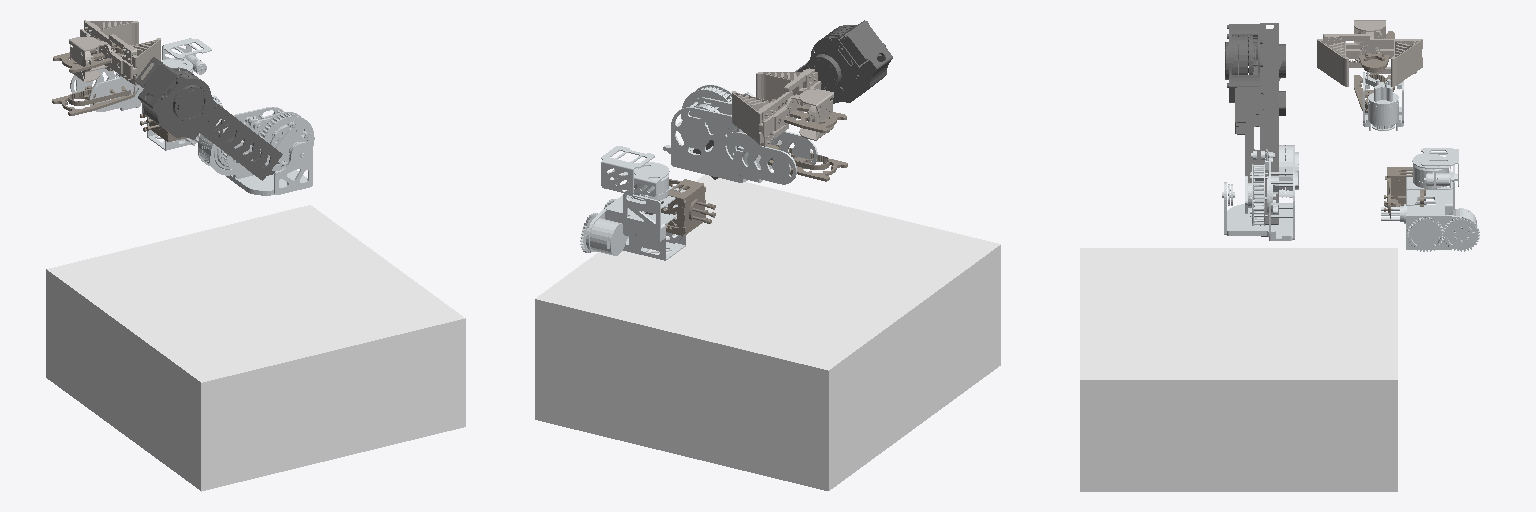
robot.urdf — robot:
<?xml version="1.0"?>
<robot name="robot">
  <link name="base">
    <inertial>
      <origin xyz="0.03057411 0.00833031 0.1359428" rpy="0 0 0"/>
      <mass value="2.97836886"/>
      <inertia ixx="0.0173222" ixy="0.00021754" ixz="0.00427526" iyy="0.02293598" iyz="0.00056289" izz="0.00881735"/>
    </inertial>
    <visual>
      <origin xyz="0 0 0" rpy="0 0 0"/>
      <geometry><mesh filename="meshes/base_collision.stl"/></geometry>
      <material name="base_color"><color rgba="1 1 1 1"/></material>
    </visual>
    <collision>
      <origin xyz="0 0 0" rpy="0 0 0"/>
      <geometry><mesh filename="meshes/base_collision.stl"/></geometry>
    </collision>
  </link>
  <link name="link1">
    <inertial>
      <origin xyz="0.00204172 0.04602681 -0.00160657" rpy="0 0 0"/>
      <mass value="0.76071759"/>
      <inertia ixx="0.00119291" ixy="0.0000256" ixz="-0.00006291" iyy="0.00094135" iyz="0.00000147" izz="0.00081243"/>
    </inertial>
    <visual>
      <origin xyz="0 0 0" rpy="0 0 0"/>
      <geometry><mesh filename="meshes/link1_collision.stl"/></geometry>
      <material name="link1_color"><color rgba="0.89803922 0.91764706 0.92941176 1"/></material>
    </visual>
    <collision>
      <origin xyz="0 0 0" rpy="0 0 0"/>
      <geometry><mesh filename="meshes/link1_collision.stl"/></geometry>
    </collision>
  </link>
  <link name="link2">
    <inertial>
      <origin xyz="-0.03774787 0.08652143 -0.01708302" rpy="0 0 0"/>
      <mass value="0.90154258"/>
      <inertia ixx="0.00213021" ixy="0.00134154" ixz="0.00019995" iyy="0.00208061" iyz="-0.00019807" izz="0.00342371"/>
    </inertial>
    <visual>
      <origin xyz="0 0 0" rpy="0 0 0"/>
      <geometry><mesh filename="meshes/link2_collision.stl"/></geometry>
      <material name="link2_color"><color rgba="0.49803922 0.49803922 0.49803922 1"/></material>
    </visual>
    <collision>
      <origin xyz="0 0 0" rpy="0 0 0"/>
      <geometry><mesh filename="meshes/link2_collision.stl"/></geometry>
    </collision>
  </link>
  <link name="link3">
    <inertial>
      <origin xyz="-0.07062083 0.10852739 -0.01609221" rpy="0 0 0"/>
      <mass value="1.35727377"/>
      <inertia ixx="0.00417074" ixy="-0.00023246" ixz="0.00057282" iyy="0.00354877" iyz="0.00090338" izz="0.00294161"/>
    </inertial>
    <visual>
      <origin xyz="0 0 0" rpy="0 0 0"/>
      <geometry><mesh filename="meshes/link3_collision.stl"/></geometry>
      <material name="link3_color"><color rgba="0.89803922 0.91764706 0.92941176 1"/></material>
    </visual>
    <collision>
      <origin xyz="0 0 0" rpy="0 0 0"/>
      <geometry><mesh filename="meshes/link3_collision.stl"/></geometry>
    </collision>
  </link>
  <link name="link4">
    <inertial>
      <origin xyz="-0.09379638 -0.00599206 0.05250412" rpy="0 0 0"/>
      <mass value="1.03370253"/>
      <inertia ixx="0.00258218" ixy="-0.00031653" ixz="0.00092212" iyy="0.00341597" iyz="0.00012783" izz="0.00217406"/>
    </inertial>
    <visual>
      <origin xyz="0 0 0" rpy="0 0 0"/>
      <geometry><mesh filename="meshes/link4_collision.stl"/></geometry>
      <material name="link4_color"><color rgba="0.65098039 0.61960784 0.58823529 1"/></material>
    </visual>
    <collision>
      <origin xyz="0 0 0" rpy="0 0 0"/>
      <geometry><mesh filename="meshes/link4_collision.stl"/></geometry>
    </collision>
  </link>
  <link name="link5">
    <inertial>
      <origin xyz="-0.02590982 -0.01583379 0.03754581" rpy="0 0 0"/>
      <mass value="0.64084376"/>
      <inertia ixx="0.0006355" ixy="-0.00008344" ixz="0.00011576" iyy="0.0006718" iyz="0.00007485" izz="0.0005295"/>
    </inertial>
    <visual>
      <origin xyz="0 0 0" rpy="0 0 0"/>
      <geometry><mesh filename="meshes/link5_collision.stl"/></geometry>
      <material name="link5_color"><color rgba="0.89803922 0.91764706 0.92941176 1"/></material>
    </visual>
    <collision>
      <origin xyz="0 0 0" rpy="0 0 0"/>
      <geometry><mesh filename="meshes/link5_collision.stl"/></geometry>
    </collision>
  </link>
  <link name="link6">
    <inertial>
      <origin xyz="-0.02170173 -0.01454163 0.0528691" rpy="0 0 0"/>
      <mass value="0.52277009"/>
      <inertia ixx="0.00057711" ixy="-0.00008555" ixz="0.00002766" iyy="0.00057536" iyz="-4e-8" izz="0.00043136"/>
    </inertial>
    <visual>
      <origin xyz="0 0 0" rpy="0 0 0"/>
      <geometry><mesh filename="meshes/link6_collision.stl"/></geometry>
      <material name="link6_color"><color rgba="0.65098039 0.61960784 0.58823529 1"/></material>
    </visual>
    <collision>
      <origin xyz="0 0 0" rpy="0 0 0"/>
      <geometry><mesh filename="meshes/link6_collision.stl"/></geometry>
    </collision>
  </link>
  <link name="link7">
    <inertial>
      <origin xyz="-0.06675129 -0.05201923 0.11689578" rpy="0 0 0"/>
      <mass value="1.00651369"/>
      <inertia ixx="0.00281765" ixy="-0.00006874" ixz="0.00026864" iyy="0.00285047" iyz="0.00019319" izz="0.00250232"/>
    </inertial>
    <visual>
      <origin xyz="0 0 0" rpy="0 0 0"/>
      <geometry><mesh filename="meshes/link7_collision.stl"/></geometry>
      <material name="link7_color"><color rgba="0.77647059 0.75686275 0.7372549 1"/></material>
    </visual>
    <collision>
      <origin xyz="0 0 0" rpy="0 0 0"/>
      <geometry><mesh filename="meshes/link7_collision.stl"/></geometry>
    </collision>
  </link>
  <joint name="joint1" type="revolute">
    <parent link="base"/>
    <child link="link1"/>
    <origin xyz="0.0085 0.0481 0.21" rpy="0 0 0"/>
    <axis xyz="0 1 0"/>
    <limit lower="-3.14" upper="3.14" effort="10" velocity="3"/>
  </joint>
  <joint name="joint2" type="revolute">
    <parent link="link1"/>
    <child link="link2"/>
    <origin xyz="0.00345339 0.063 0.01949651" rpy="0 0 0"/>
    <axis xyz="-0.17441369 0 -0.98467247"/>
    <limit lower="-3.14" upper="3.14" effort="10" velocity="3"/>
  </joint>
  <joint name="joint3" type="revolute">
    <parent link="link2"/>
    <child link="link3"/>
    <origin xyz="-0.04509137 0.09579555 -0.01600578" rpy="0 0 0"/>
    <axis xyz="-0.74314092 0.65606 0.13163154"/>
    <limit lower="-3.14" upper="3.14" effort="10" velocity="3"/>
  </joint>
  <joint name="joint4" type="revolute">
    <parent link="link3"/>
    <child link="link4"/>
    <origin xyz="-0.08076361 0.10373461 0.03589668" rpy="0 0 0"/>
    <axis xyz="0.5858009 0.54280516 0.60183044"/>
    <limit lower="-3.14" upper="3.14" effort="10" velocity="3"/>
  </joint>
  <joint name="joint5" type="revolute">
    <parent link="link4"/>
    <child link="link5"/>
    <origin xyz="-0.13929219 -0.02884453 0.11655673" rpy="0 0 0"/>
    <axis xyz="0.51989116 0.31798493 -0.79284221"/>
    <limit lower="-3.14" upper="3.14" effort="10" velocity="3"/>
  </joint>
  <joint name="joint6" type="revolute">
    <parent link="link5"/>
    <child link="link6"/>
    <origin xyz="-0.04206143 -0.03062023 0.0421217" rpy="0 0 0"/>
    <axis xyz="0.51678161 0.62195029 0.58831506"/>
    <limit lower="-3.14" upper="3.14" effort="10" velocity="3"/>
  </joint>
  <joint name="joint7" type="revolute">
    <parent link="link6"/>
    <child link="link7"/>
    <origin xyz="-0.01395286 -0.00840714 0.04094643" rpy="0 0 0"/>
    <axis xyz="-0.46996143 -0.36830264 0.80217792"/>
    <limit lower="-3.14" upper="3.14" effort="10" velocity="3"/>
  </joint>
</robot>

--- Facts derived from the render (not from the file) ---
Views: 3 orthographic renders of the robot side by side, from view 1: azimuth 30°, elevation 25°; view 2: azimuth 150°, elevation 25°; view 3: azimuth 270°, elevation 25°.
Robot: robot — 8 links, 7 joints (7 revolute); root link base; default pose: every joint at zero.
Visible links, largest first — view 1: base, link2, link1, link7, link6, link3, link5; view 2: base, link3, link7, link1, link2, link5, link4, link6; view 3: base, link2, link3, link1, link7, link5, link6, link4.
Boxes of the visible links, box(x1,y1,x2,y2) form: base: box(46, 205, 465, 491); link2: box(135, 57, 282, 180); link1: box(198, 107, 314, 195); link7: box(69, 20, 160, 85); link6: box(52, 43, 135, 115); link3: box(142, 38, 222, 150); link5: box(70, 68, 143, 111); base: box(535, 175, 1000, 490); link3: box(580, 146, 685, 260); link7: box(732, 68, 833, 146); link1: box(663, 85, 781, 182); link2: box(693, 20, 892, 179); link5: box(734, 127, 817, 184); link4: box(641, 179, 715, 235); link6: box(767, 99, 847, 181); base: box(1080, 248, 1397, 491); link2: box(1225, 23, 1285, 236); link3: box(1381, 148, 1479, 251); link1: box(1222, 145, 1298, 240); link7: box(1317, 20, 1422, 86); link5: box(1363, 72, 1403, 130); link6: box(1354, 31, 1394, 112); link4: box(1384, 167, 1426, 218).
Bounding box of the posed robot: 0.58 × 0.7425 × 0.7381 m (x, y, z).
8 mesh visuals loaded from 8 distinct referenced files (8 binary STL).
